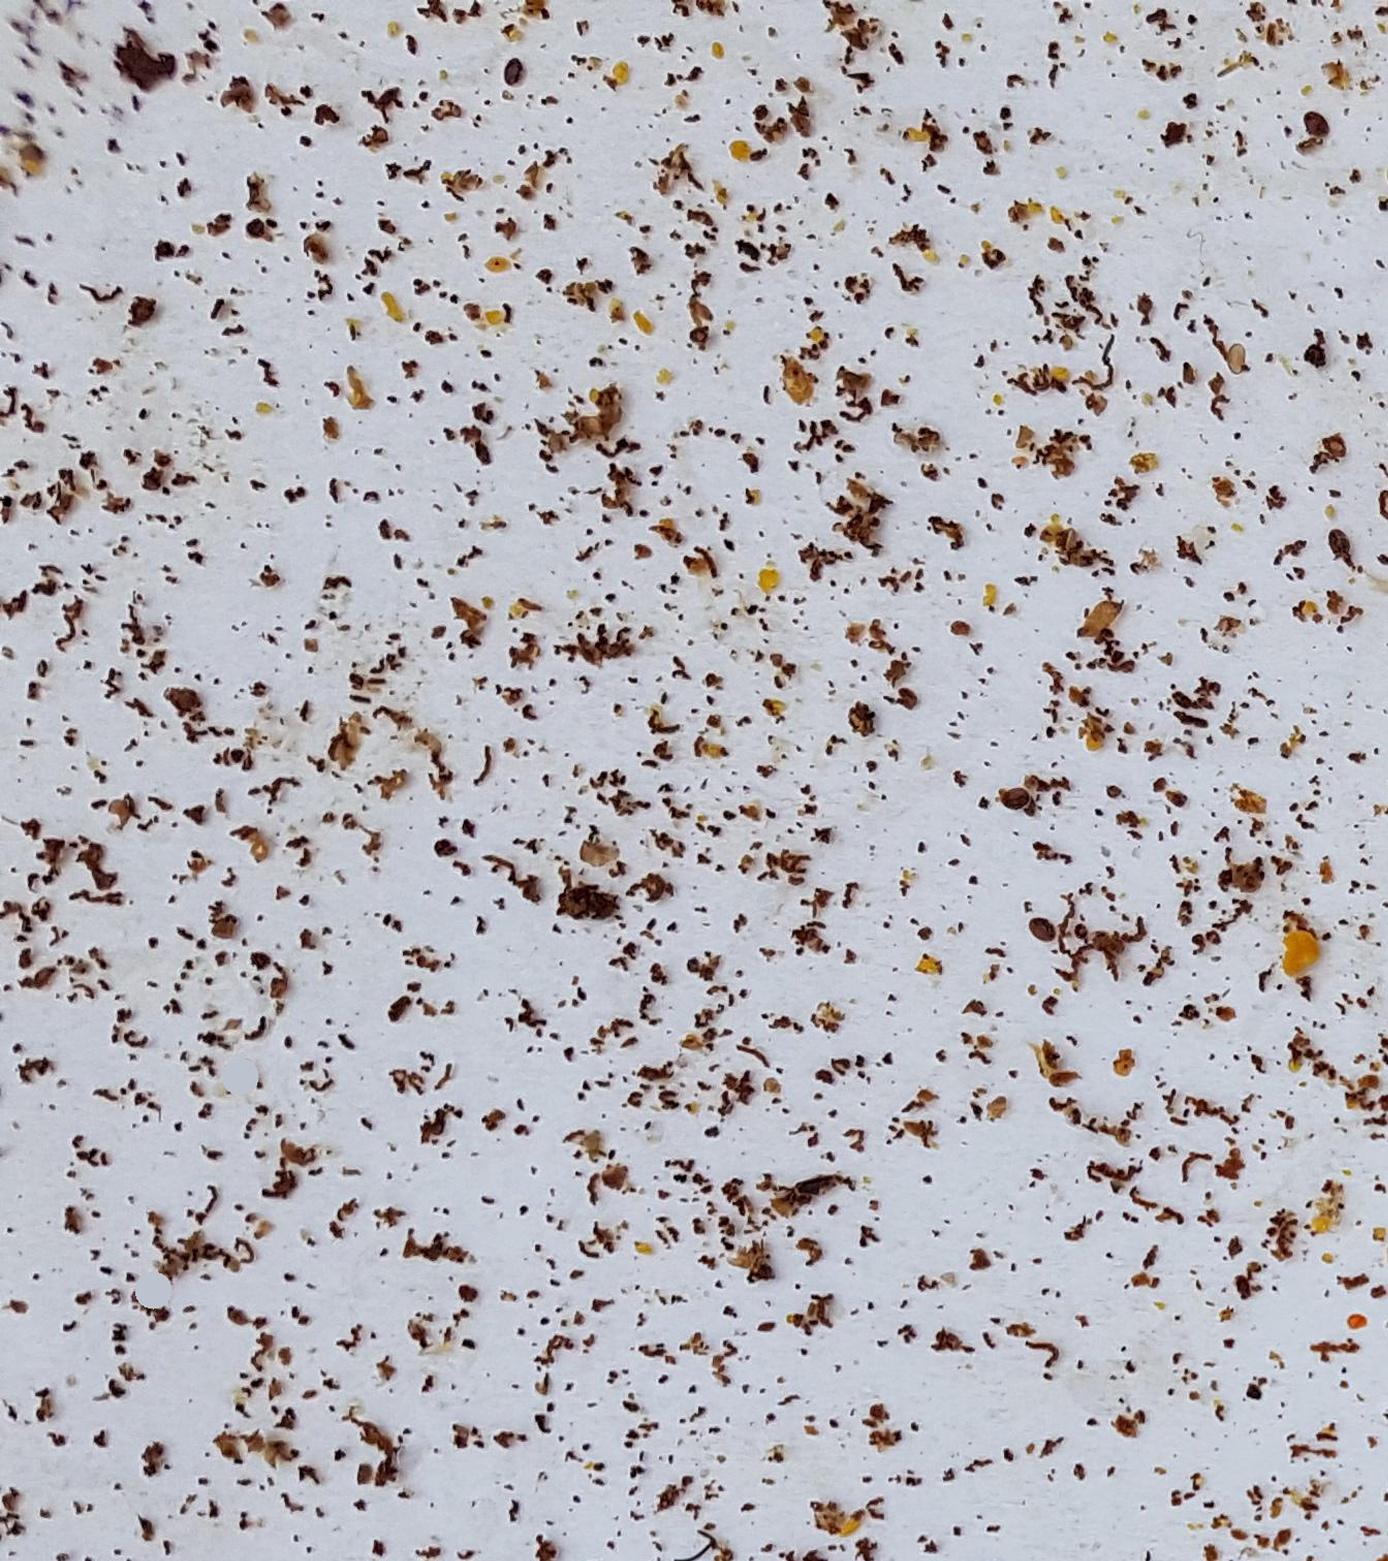Varroa: (999, 783, 1032, 815), (1025, 912, 1054, 945), (1320, 529, 1350, 559), (1301, 113, 1328, 142), (498, 62, 524, 88)
